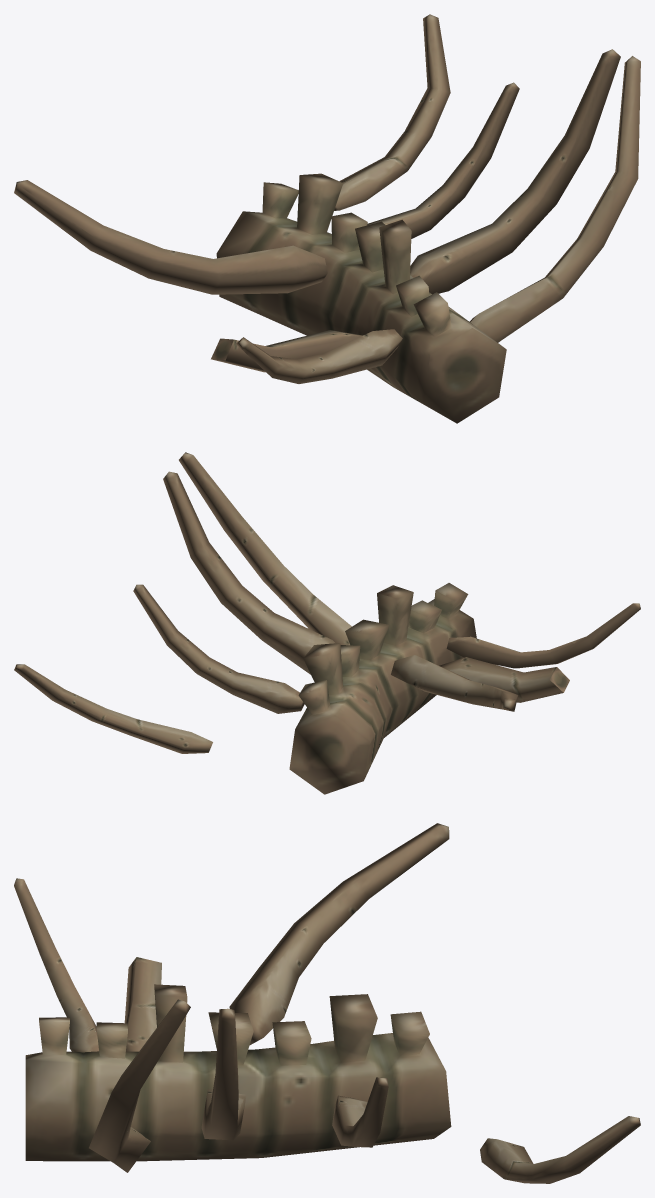
File: Bones_03.fbx
3 renders of one model, top to bottom at view 1: azimuth 30°, elevation 25°; view 2: azimuth 150°, elevation 25°; view 3: azimuth 270°, elevation 25°, orthographic. The views are drawn at different scales.
Parts seen in each view (by area): view 1: polySurface675; view 2: polySurface675; view 3: polySurface675.
Part boxes in pixels (<box>): polySurface675: <box>14,14,640,423</box>; polySurface675: <box>14,452,640,794</box>; polySurface675: <box>14,823,640,1183</box>.
Bounding box in the file's own units: 1.97 × 0.9449 × 1.85.
1 material, 1 textured.
